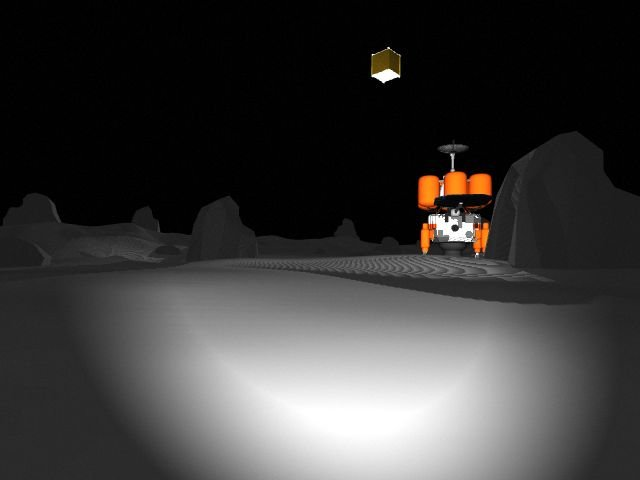cubesat: (364, 42, 405, 91)
